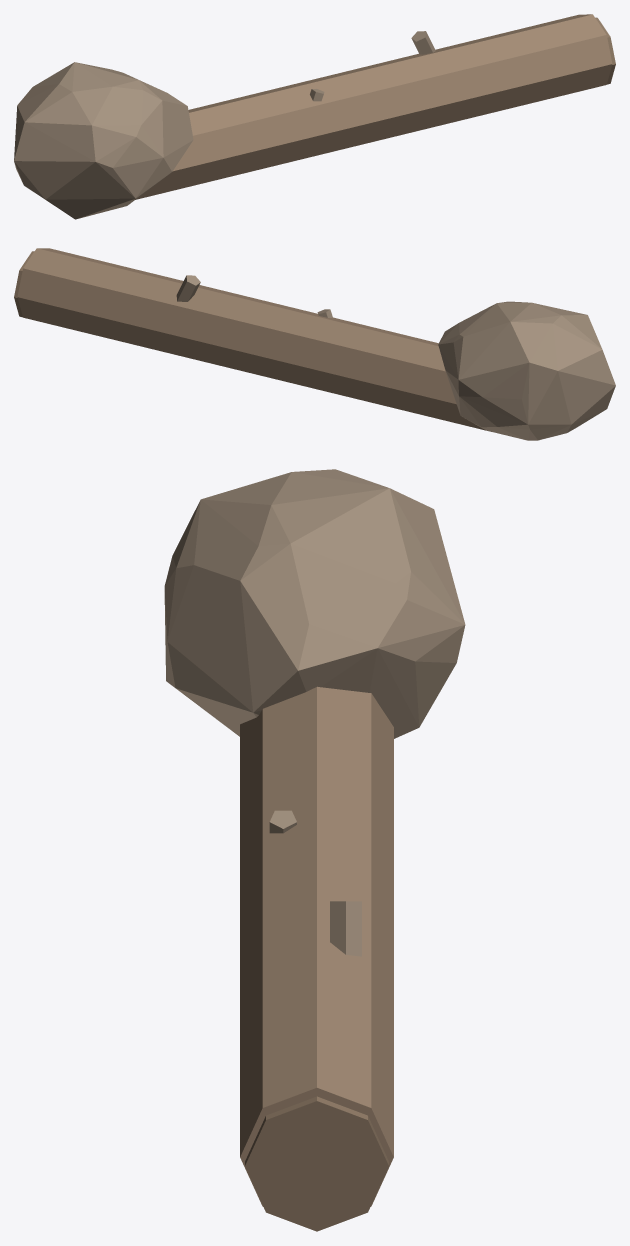
The model's file is fallen_tree.glb.
3 views of the same model, one above another, from view 1: azimuth 30°, elevation 25°; view 2: azimuth 150°, elevation 25°; view 3: azimuth 270°, elevation 25° (orthographic). The views are drawn at different scales.
Parts seen in each view (by area): view 1: trunk_01, root_mass, branch_00; view 2: trunk_01, root_mass, branch_00; view 3: trunk_01, root_mass, cap_r, branch_00.
Boxes of the visible parts, x1,y1,x2,y2 form: trunk_01: [135, 14, 612, 199]; root_mass: [14, 62, 193, 219]; branch_00: [411, 31, 435, 54]; trunk_01: [17, 248, 485, 430]; root_mass: [438, 301, 615, 440]; branch_00: [176, 275, 200, 301]; trunk_01: [240, 686, 393, 1206]; root_mass: [164, 469, 465, 738]; cap_r: [245, 1096, 388, 1231]; branch_00: [330, 901, 361, 956].
Bounding box in the file's own units: 5.57 × 1.19 × 1.25.
